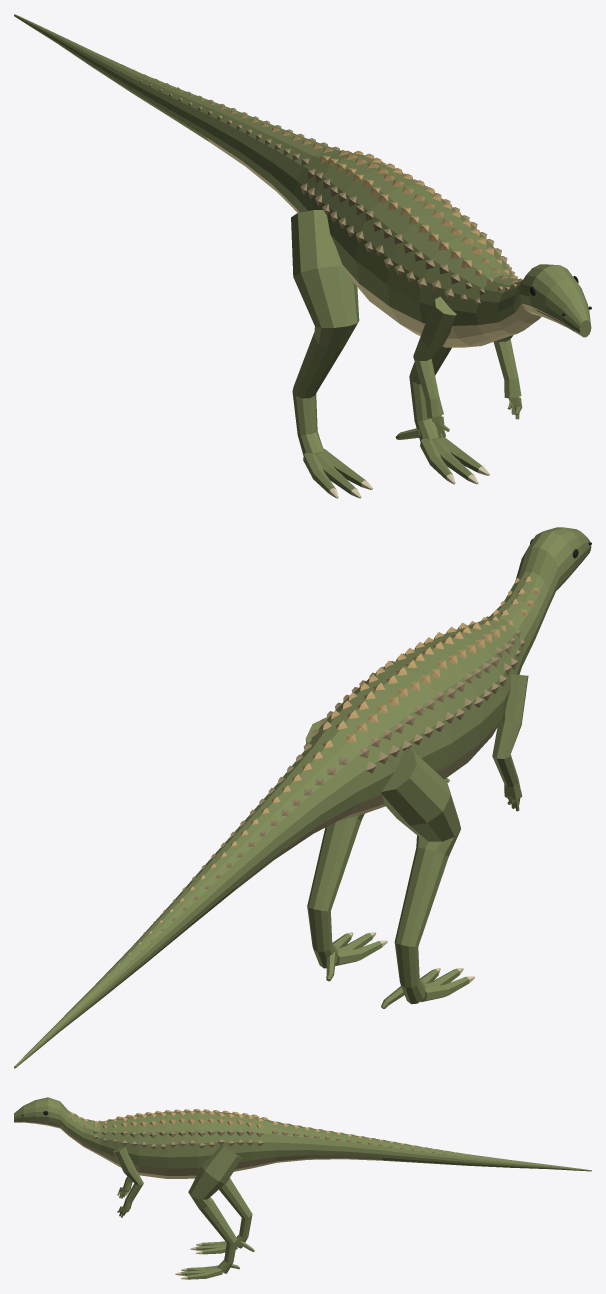
3 views of the same model, one above another, from view 1: azimuth 30°, elevation 25°; view 2: azimuth 150°, elevation 25°; view 3: azimuth 270°, elevation 25° (orthographic). The views are drawn at different scales.
Visible parts, largest first — view 1: Integrated head neck torso and tapering tail, Hind limb and articulated foot left, Illustrative low keeled osteoderms, Hind limb and articulated foot right, Suspended forelimb and five-digit hand left, Suspended forelimb and five-digit hand right; view 2: Integrated head neck torso and tapering tail, Hind limb and articulated foot left, Illustrative low keeled osteoderms, Hind limb and articulated foot right, Suspended forelimb and five-digit hand left; view 3: Integrated head neck torso and tapering tail, Hind limb and articulated foot right, Illustrative low keeled osteoderms, Hind limb and articulated foot left, Suspended forelimb and five-digit hand right.
Boxes of the visible parts, box(x1,y1,x2,y2) form: Integrated head neck torso and tapering tail: box(14, 14, 591, 347); Hind limb and articulated foot left: box(291, 210, 366, 494); Illustrative low keeled osteoderms: box(91, 55, 522, 305); Hind limb and articulated foot right: box(395, 346, 483, 480); Suspended forelimb and five-digit hand left: box(413, 296, 456, 438); Suspended forelimb and five-digit hand right: box(493, 279, 522, 419); Integrated head neck torso and tapering tail: box(14, 527, 591, 1068); Hind limb and articulated foot left: box(381, 748, 469, 1008); Illustrative low keeled osteoderms: box(94, 576, 539, 985); Hind limb and articulated foot right: box(305, 717, 381, 981); Suspended forelimb and five-digit hand left: box(492, 674, 528, 811); Integrated head neck torso and tapering tail: box(14, 1097, 591, 1178); Hind limb and articulated foot right: box(181, 1145, 241, 1279); Illustrative low keeled osteoderms: box(70, 1109, 507, 1161); Hind limb and articulated foot left: box(196, 1178, 254, 1254); Suspended forelimb and five-digit hand right: box(113, 1147, 143, 1217).
Bounding box in the file's own units: 0.1817 × 0.378 × 1.2.
